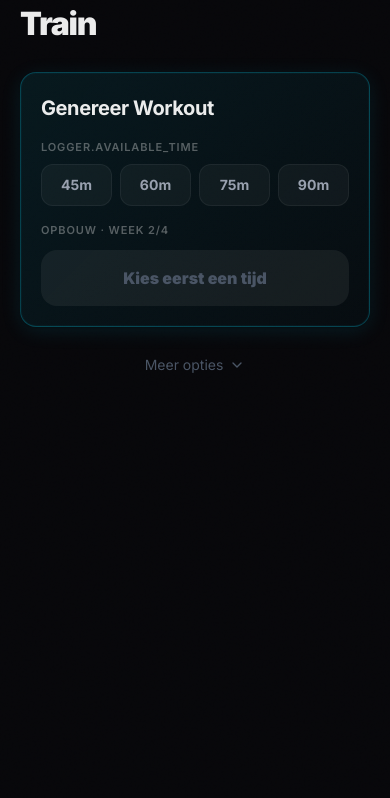
Test: Scenario 4: StartFlowView shows plan context › muscle focus toggles are available under "More Options"
The width and height of the screenshot is (390, 798).
Click the button "Meer opties". click: (195, 365)
box: left=20, top=343, right=370, bottom=387
(page scrolled)
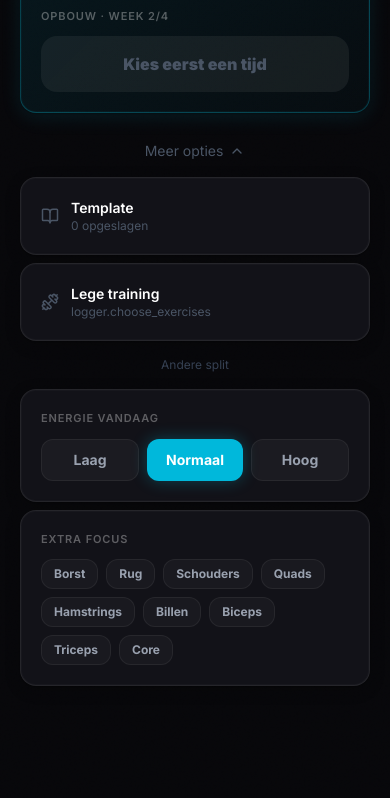
Now the button "Borst" is shown, box left=41, top=559, right=98, bottom=589
Now the button "Rug" is shown, box left=106, top=559, right=155, bottom=589
Now the button "Quads" is shown, box left=261, top=559, right=325, bottom=589
